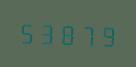eight: (58, 19, 77, 47)
five: (18, 18, 37, 45)
nine: (98, 21, 117, 48)
seven: (78, 20, 97, 48)
three: (38, 18, 57, 46)
